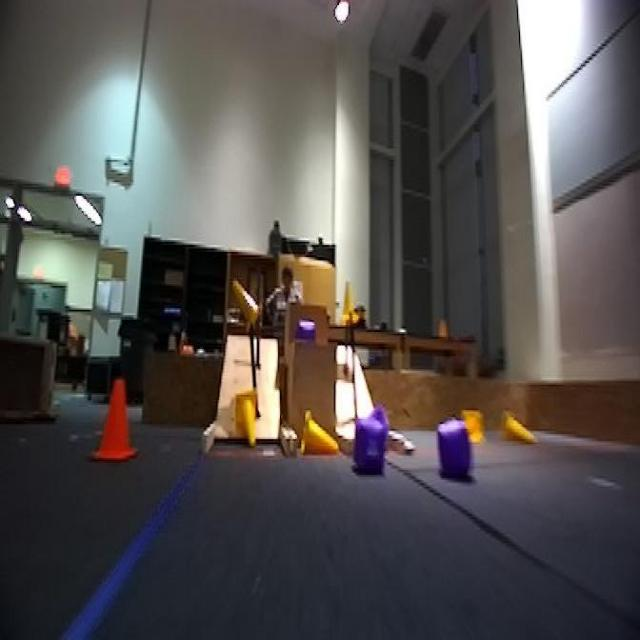frc_cone: (227, 274, 263, 339), (299, 412, 341, 459), (235, 386, 263, 453), (497, 412, 542, 451), (331, 274, 361, 329), (453, 404, 486, 431)
frc_cube: (435, 418, 475, 482), (355, 415, 390, 468), (295, 318, 319, 346)
